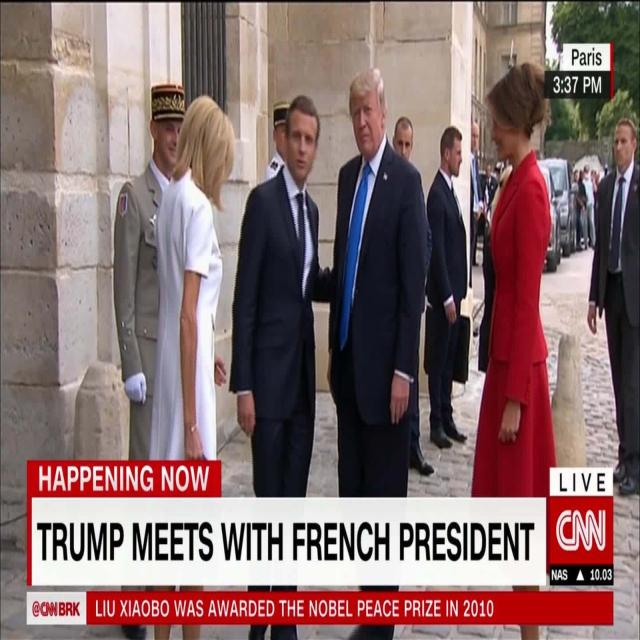body: (322, 63, 431, 640), (226, 92, 336, 640), (468, 56, 564, 639), (145, 90, 242, 640), (113, 85, 189, 640), (468, 112, 620, 388), (255, 95, 318, 498), (586, 116, 640, 498), (420, 118, 474, 458), (389, 113, 435, 479)
